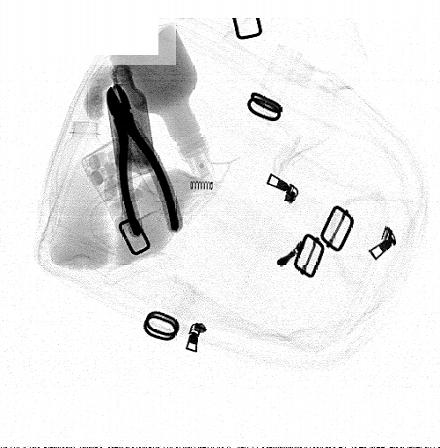Pliers: (104, 83, 180, 236)
